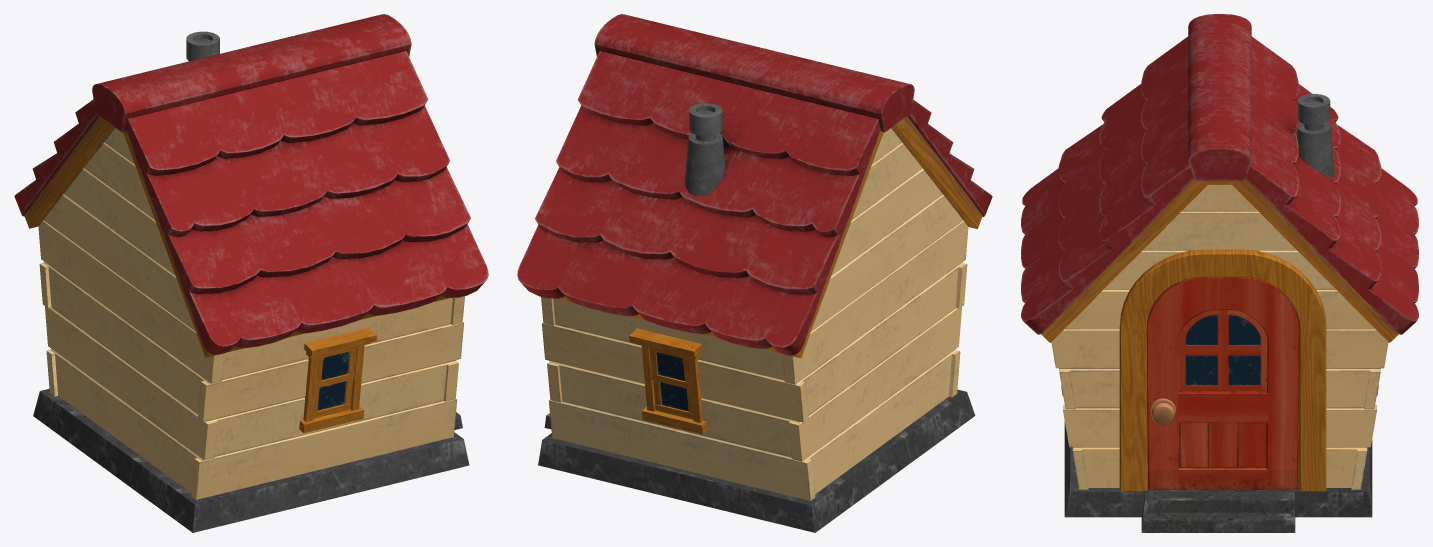
Rendered from house5.glb.
3 views of the same model, side by side, from view 1: azimuth 30°, elevation 25°; view 2: azimuth 150°, elevation 25°; view 3: azimuth 270°, elevation 25° (orthographic). The views are drawn at different scales.
Visible parts, largest first — view 1: House; view 2: House; view 3: House.
Boxes of the visible parts, x1,y1,x2,y2 form: House: (14, 14, 488, 532); House: (517, 14, 992, 532); House: (1021, 14, 1418, 532).
Bounding box in the file's own units: 186 × 219 × 212.
2 materials, 2 textured.
